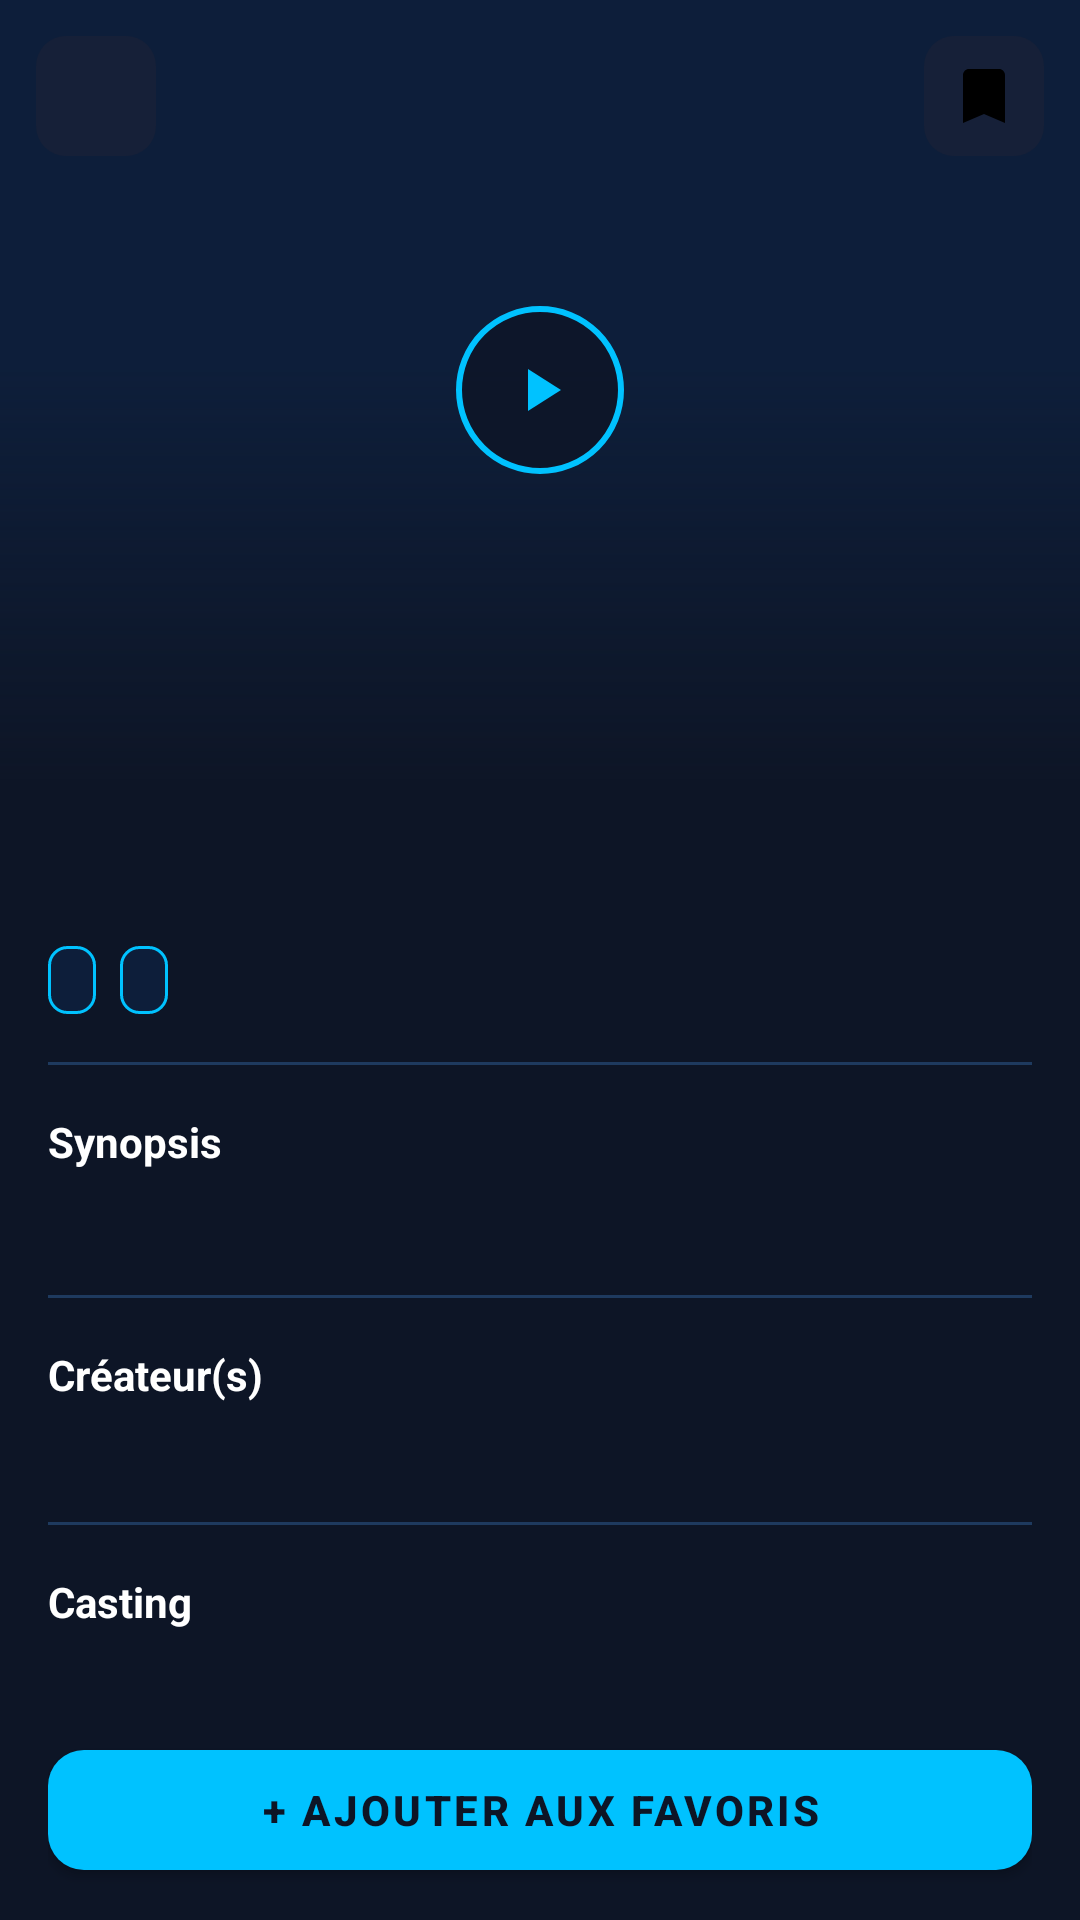

Icon bounding boxes for this 1080x1920 phone screenshot, format bbox=[x1, y1, x2, y2]:
Sauvegarder: bbox=[963, 69, 1005, 123]
Trailer: bbox=[456, 306, 624, 474]
